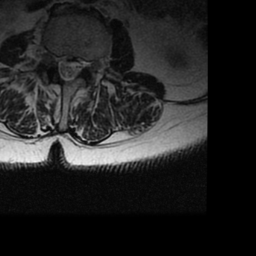CCS_normal: (65, 48, 72, 91)
LFS_stenosis: (81, 49, 92, 75)
LLS_normal: (72, 49, 81, 83)
RFS_stenosis: (47, 41, 56, 74)
RLS_normal: (56, 46, 65, 84)
